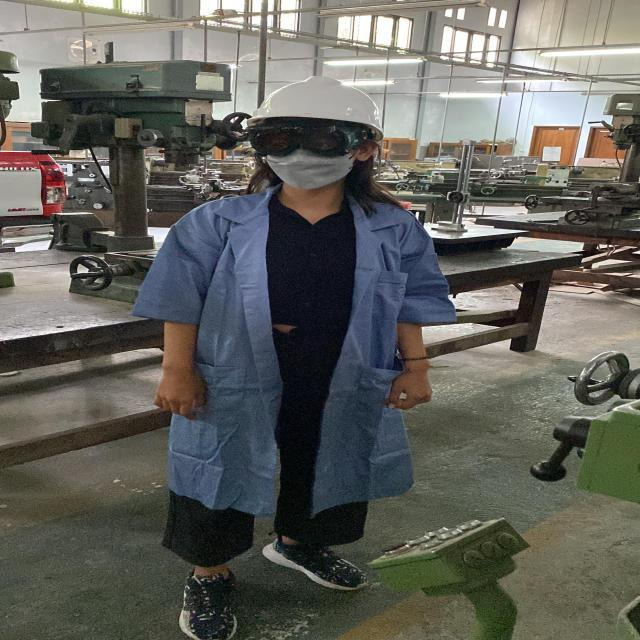glasses: (234, 118, 376, 156)
